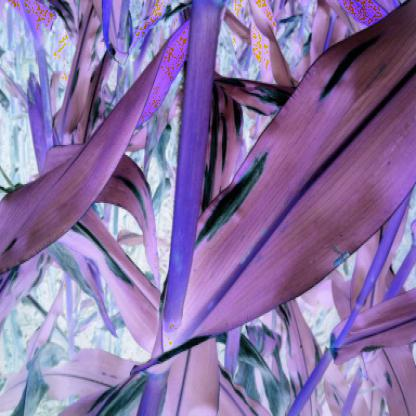corn leaf blight: (168, 4, 413, 362), (69, 213, 166, 336), (194, 75, 253, 78)
